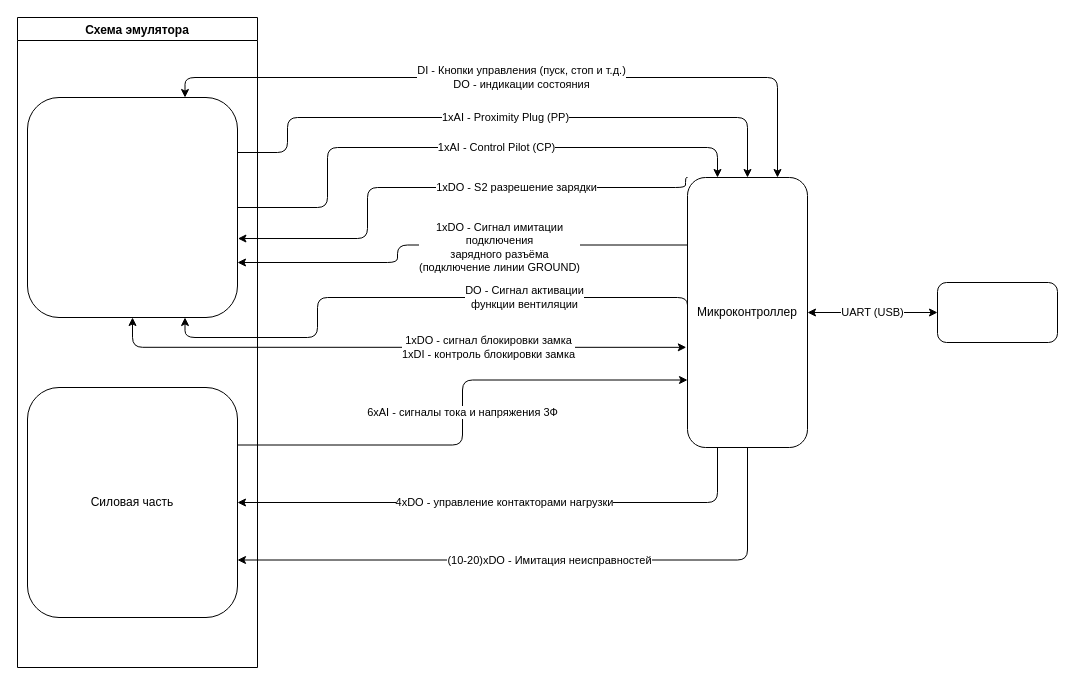
This 1075x685 diagram has some shape labels left out. Each missing label, with the centre of its shape:
Интерфейс подключения к ПК: the point at 997,312
Сигнальная часть: the point at 132,207
